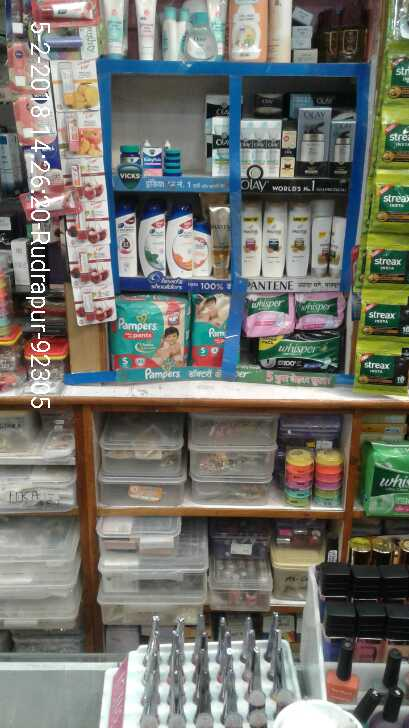vicks: (121, 137, 186, 180)
